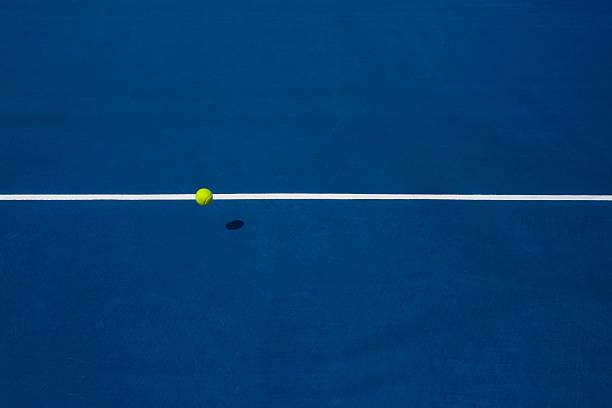ball_tennis: (196, 186, 212, 207)
